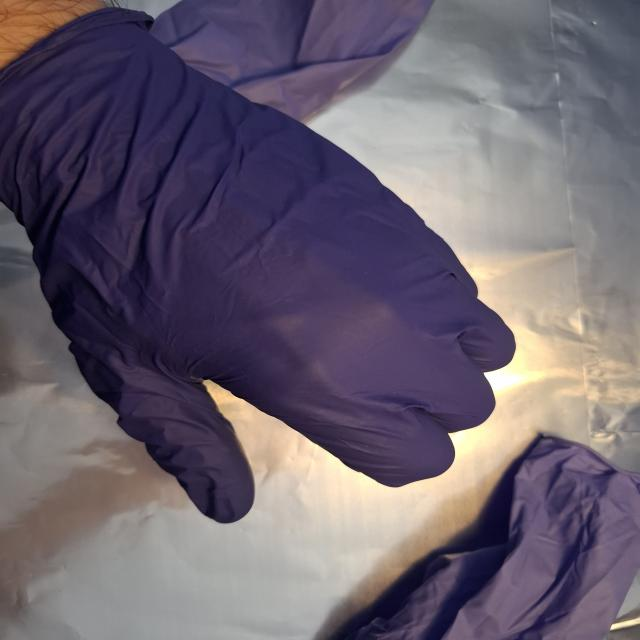glove_on: (0, 0, 522, 528)
